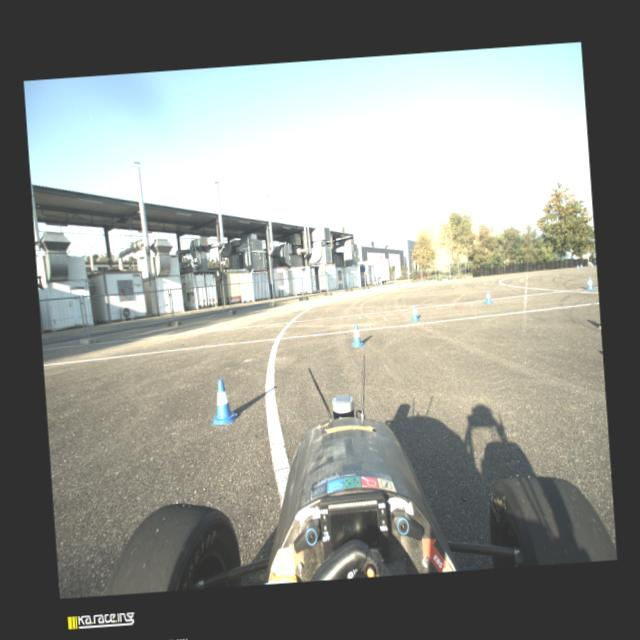blue_cone: (208, 377, 238, 425), (348, 322, 364, 347), (409, 304, 419, 322), (483, 289, 492, 304), (585, 276, 594, 290), (576, 264, 580, 270), (590, 262, 594, 268), (580, 264, 583, 268)
